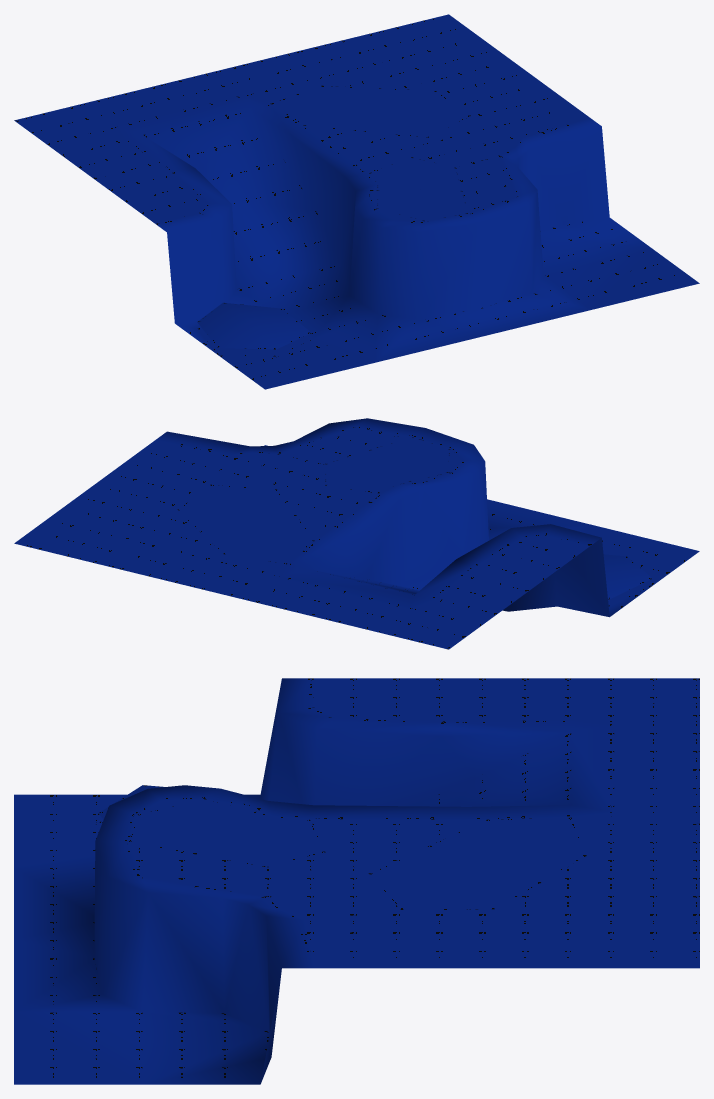
The model's file is GRD_S_C1_S_2.fbx.
3 renders of one model, top to bottom at view 1: azimuth 30°, elevation 25°; view 2: azimuth 150°, elevation 25°; view 3: azimuth 270°, elevation 25°, orthographic. The views are drawn at different scales.
Visible parts, largest first — view 1: material_00022000, material_00042000, material_C0032000, material_C0012000, material_C0052000; view 2: material_00022000, material_00042000, material_C0032000, material_C0012000; view 3: material_00022000, material_00042000, material_C0032000.
Boxes of the visible parts, x1,y1,x2,y2 form: material_00022000: (14, 14, 699, 389); material_00042000: (124, 104, 609, 323); material_C0032000: (269, 85, 471, 221); material_C0012000: (197, 302, 311, 349); material_C0052000: (197, 326, 311, 356); material_00022000: (14, 427, 699, 649); material_00042000: (155, 418, 609, 616); material_C0032000: (177, 436, 450, 564); material_C0012000: (603, 554, 652, 599); material_00022000: (14, 678, 699, 1084); material_00042000: (94, 678, 571, 1083); material_C0032000: (129, 799, 587, 910).
Bounding box in the file's own units: 12800 × 2400 × 12800.
